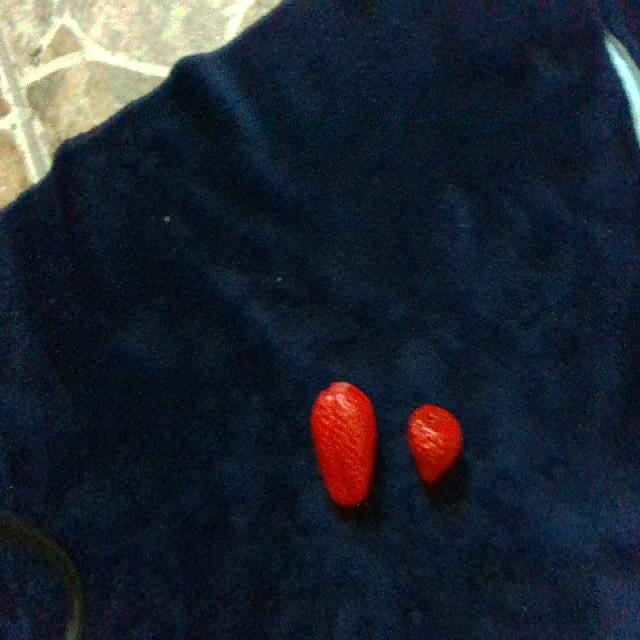chica_roja: (409, 405, 461, 481)
grande_roja: (312, 381, 376, 505)
